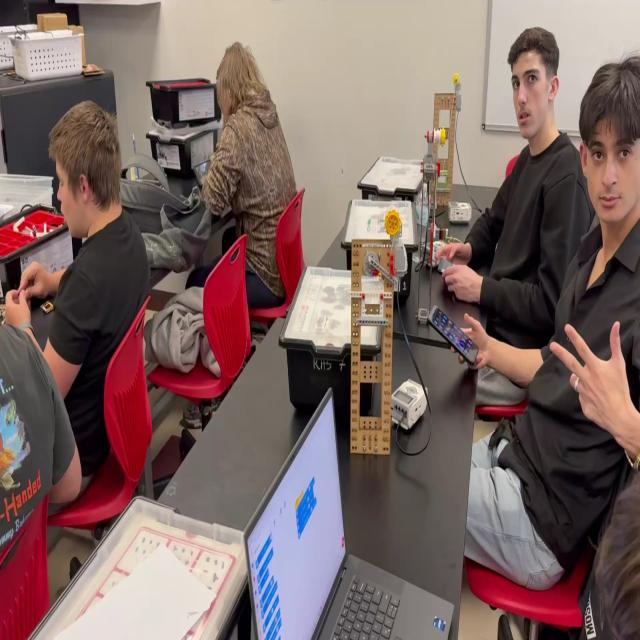pen: (427, 304, 479, 366), (193, 159, 216, 188), (437, 258, 462, 282)
